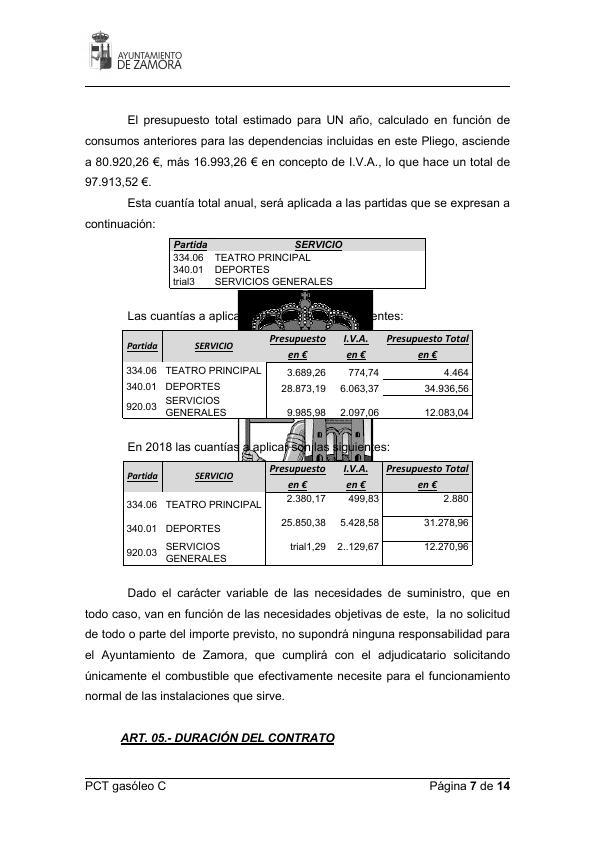table: (122, 460, 474, 568), (119, 327, 473, 419), (167, 235, 428, 289)
text: (82, 587, 515, 703), (81, 109, 515, 189), (86, 195, 515, 234), (117, 728, 341, 750), (126, 441, 391, 454)
